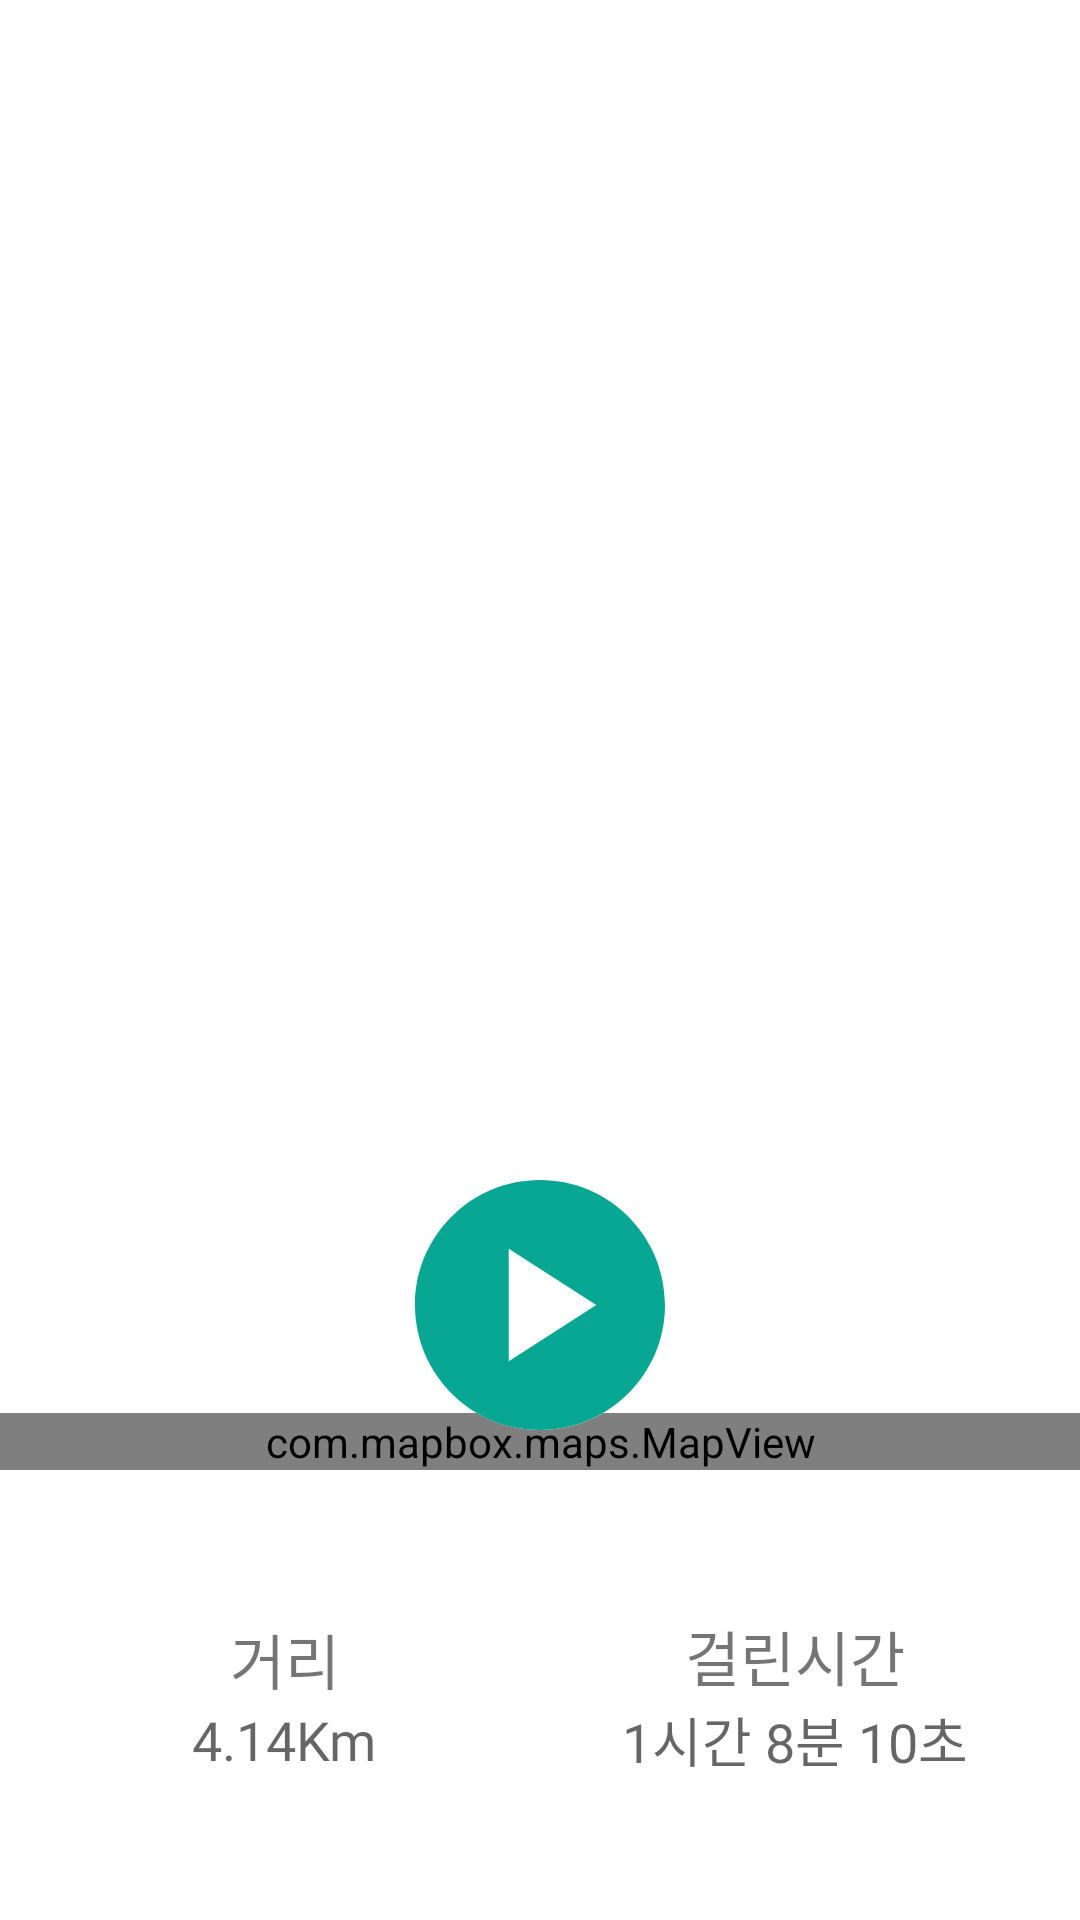

Where to tap for icons on this 1080w x 1920h app screen, as (x,y):
start circle: (540,1317)
